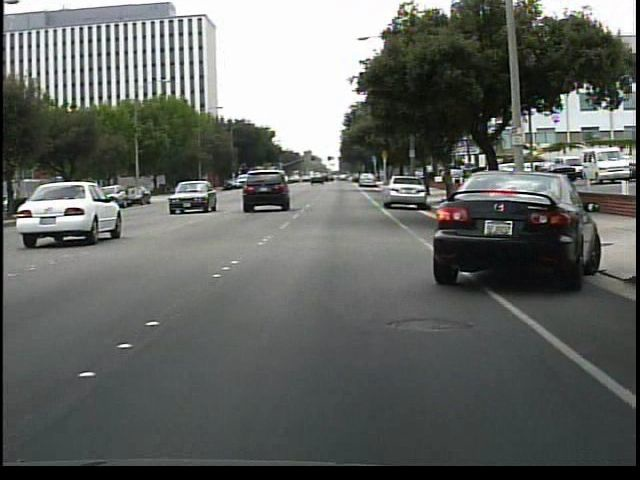person: (511, 162, 531, 212), (526, 160, 546, 195)
